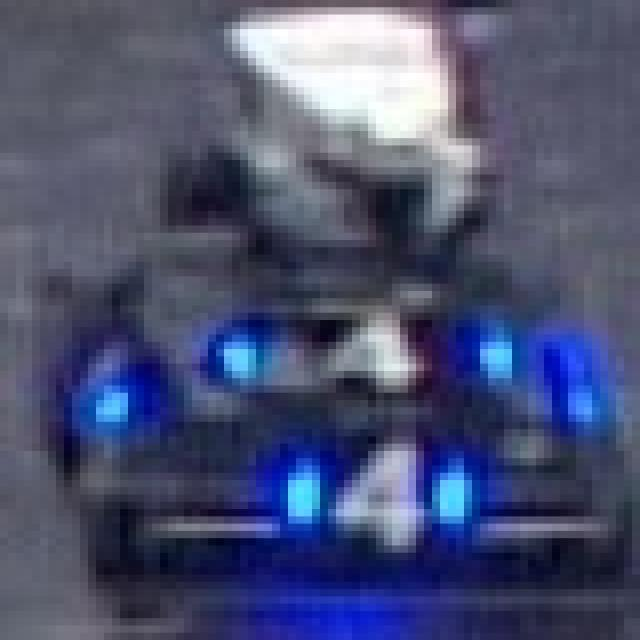B4: (280, 436, 472, 546)
